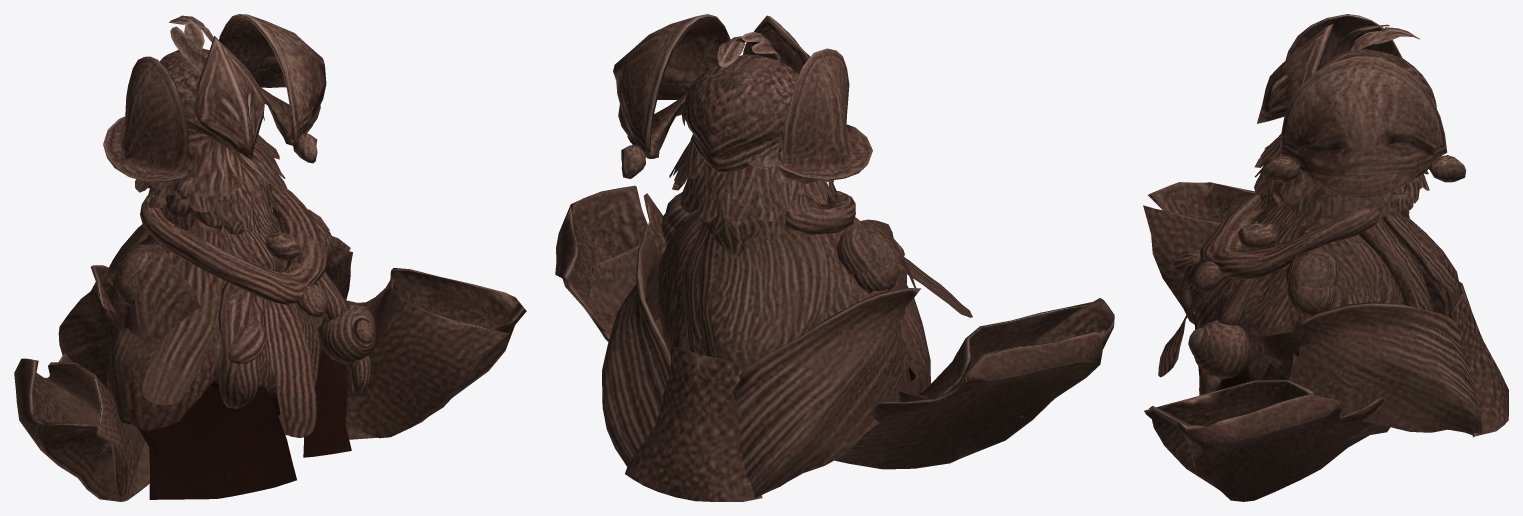
The model's file is altem_guardsmen.glb.
3 renders of one model, left to right at view 1: azimuth 30°, elevation 25°; view 2: azimuth 150°, elevation 25°; view 3: azimuth 270°, elevation 25°, orthographic. The views are drawn at different scales.
Size of the model in its own units: 1 by 0.8088 by 0.6381.
Materials: 1 (1 with a texture image).
